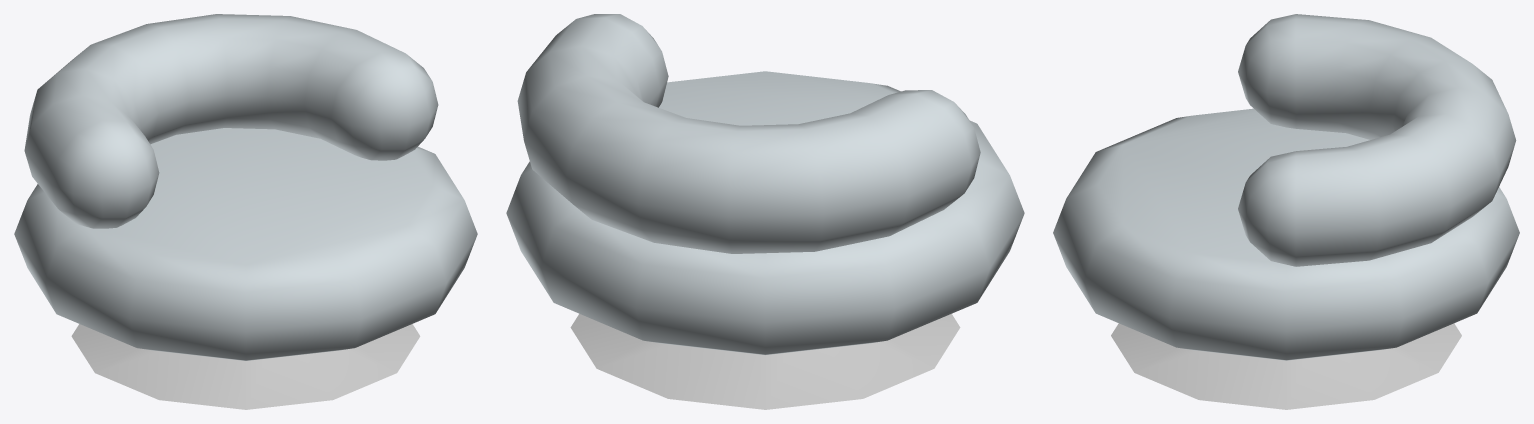
Rendered from chair_014.fbx.
The picture shows the model from 3 angles, left to right: view 1: azimuth 30°, elevation 25°; view 2: azimuth 150°, elevation 25°; view 3: azimuth 270°, elevation 25°; orthographic projection. The views are drawn at different scales.
Visible parts, largest first — view 1: chair_014; view 2: chair_014; view 3: chair_014.
Boxes of the visible parts, box(x1,y1,x2,y2) form: chair_014: box(14, 14, 477, 409); chair_014: box(506, 14, 1024, 409); chair_014: box(1053, 14, 1519, 409).
Bounding box in the file's own units: 159 × 159 × 93.22.
